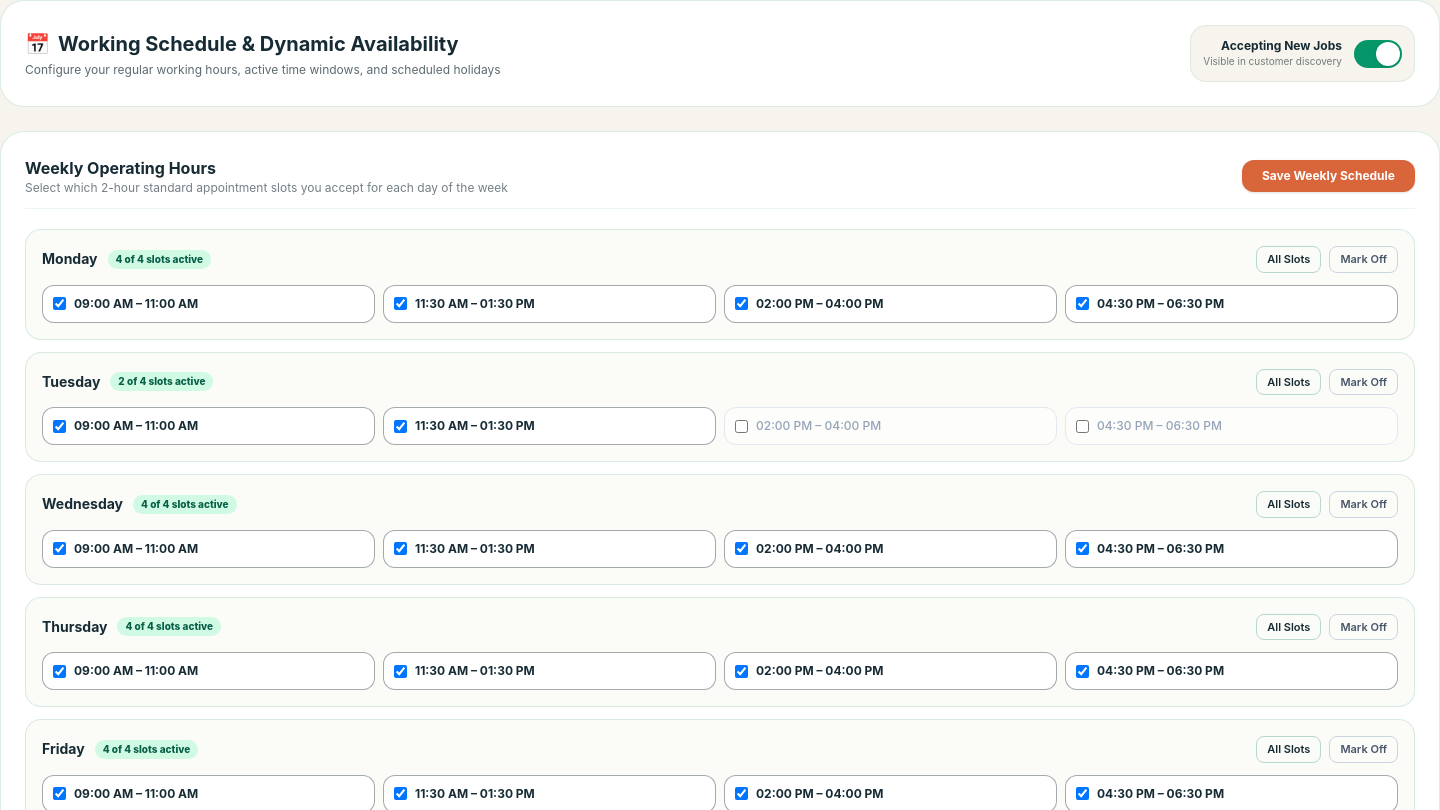
Scenario: ProviderScheduleView Component › toggles isAcceptingJobs status on switch click
The width and height of the screenshot is (1440, 810).
Click the switch with test id "toggle-accepting-jobs": (1378, 54) [1354,40,1402,68]
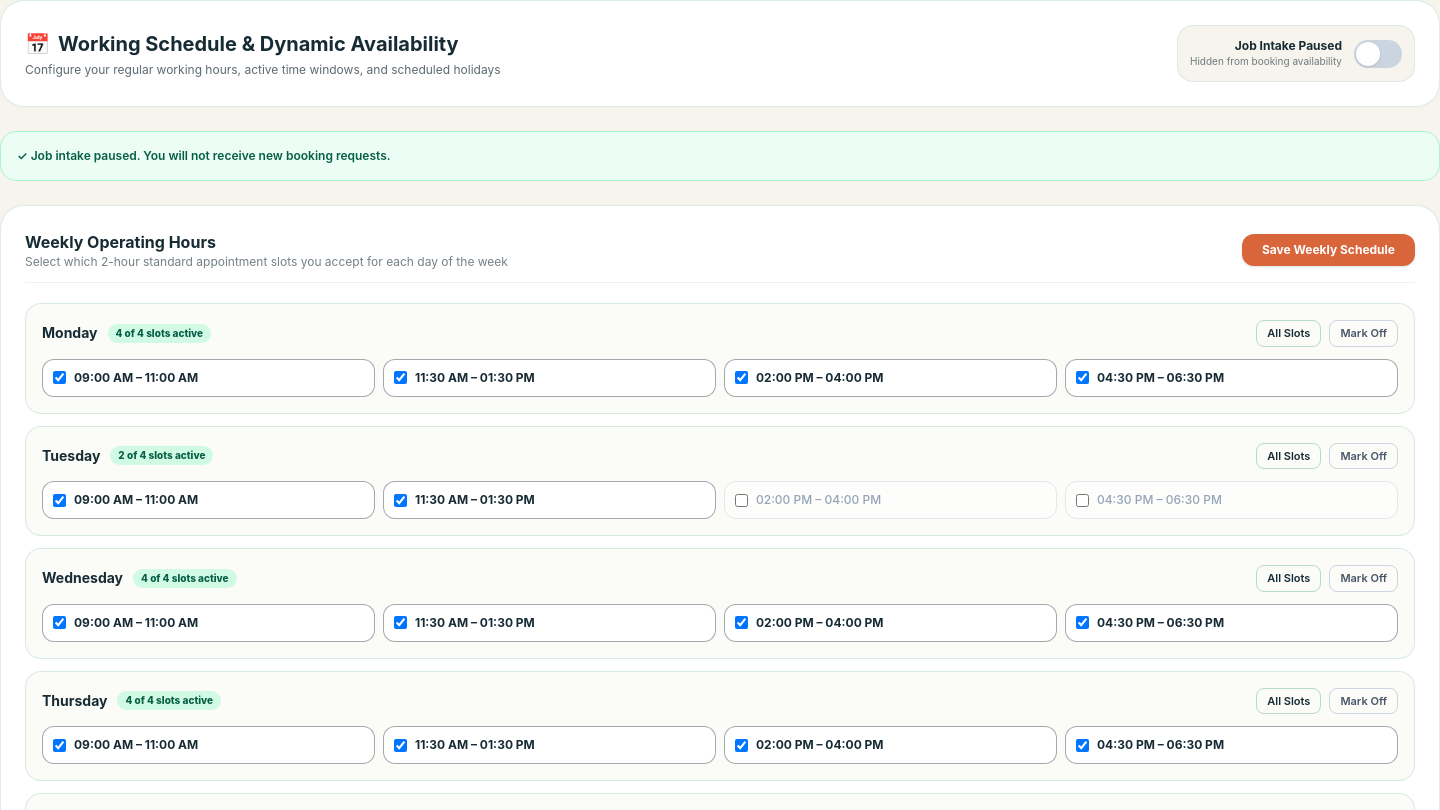
Expected: the text "Job Intake Paused" is shown, [1235,38,1342,53]
